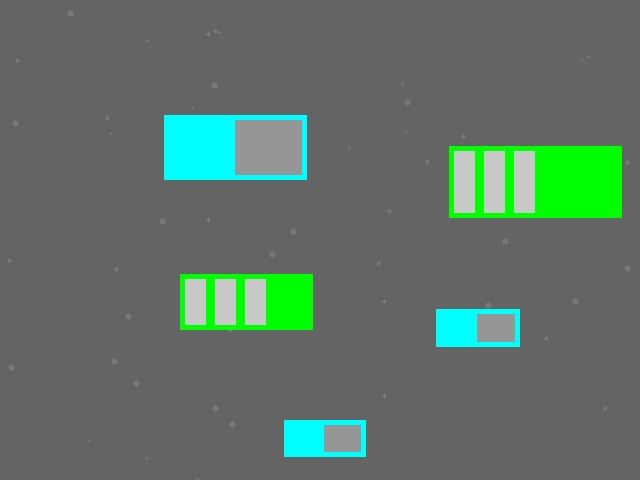bus: (449, 146, 621, 217), (180, 274, 312, 329)
truck: (164, 115, 306, 179), (436, 309, 519, 346), (284, 420, 365, 456)
